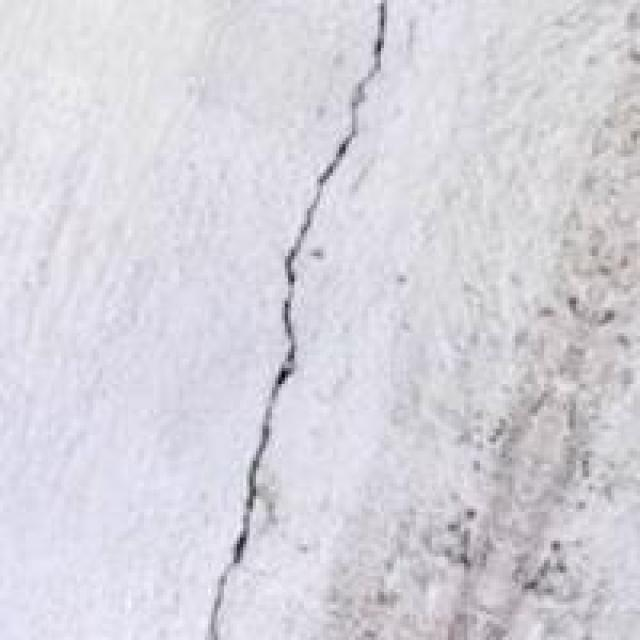crack: (205, 0, 451, 637)
